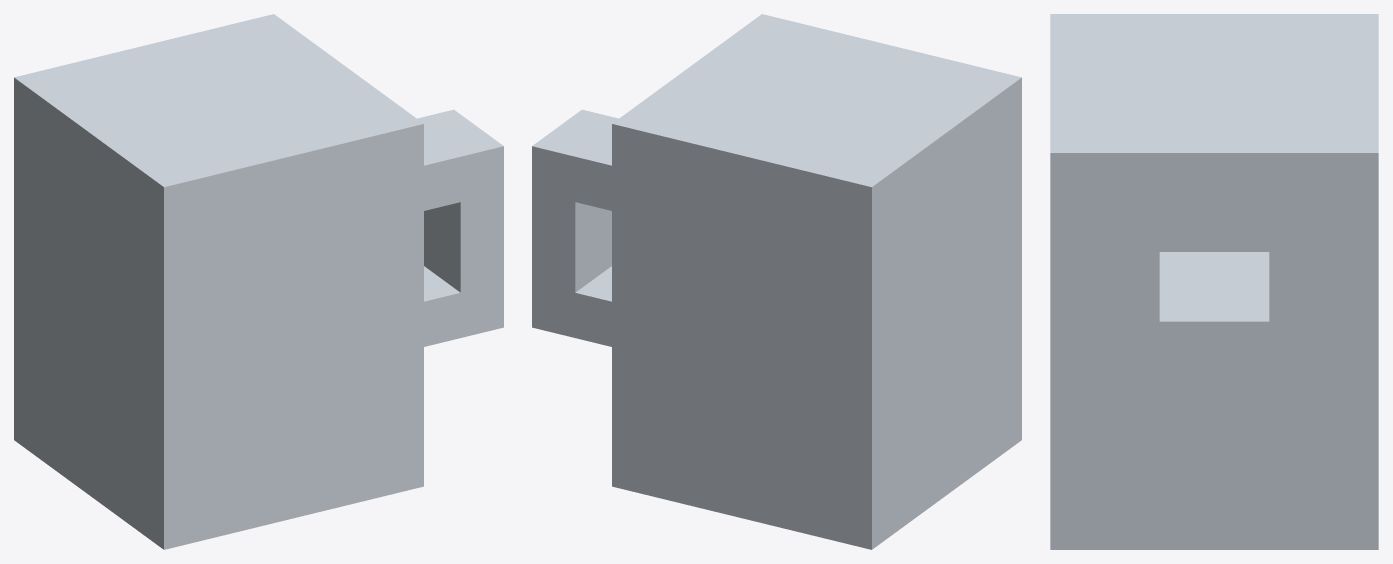
The model's file is mug.glb.
The picture shows the model from 3 angles, left to right: view 1: azimuth 30°, elevation 25°; view 2: azimuth 150°, elevation 25°; view 3: azimuth 270°, elevation 25°; orthographic projection. The views are drawn at different scales.
Parts seen in each view (by area): view 1: generated(Clone); view 2: generated(Clone); view 3: generated(Clone).
Part boxes in pixels (x1,y1,x2,y2): generated(Clone): (14, 14, 503, 549); generated(Clone): (532, 14, 1021, 549); generated(Clone): (1050, 14, 1378, 549).
Bounding box in the file's own units: 4.5 × 4 × 3.
1 material, 1 textured.
